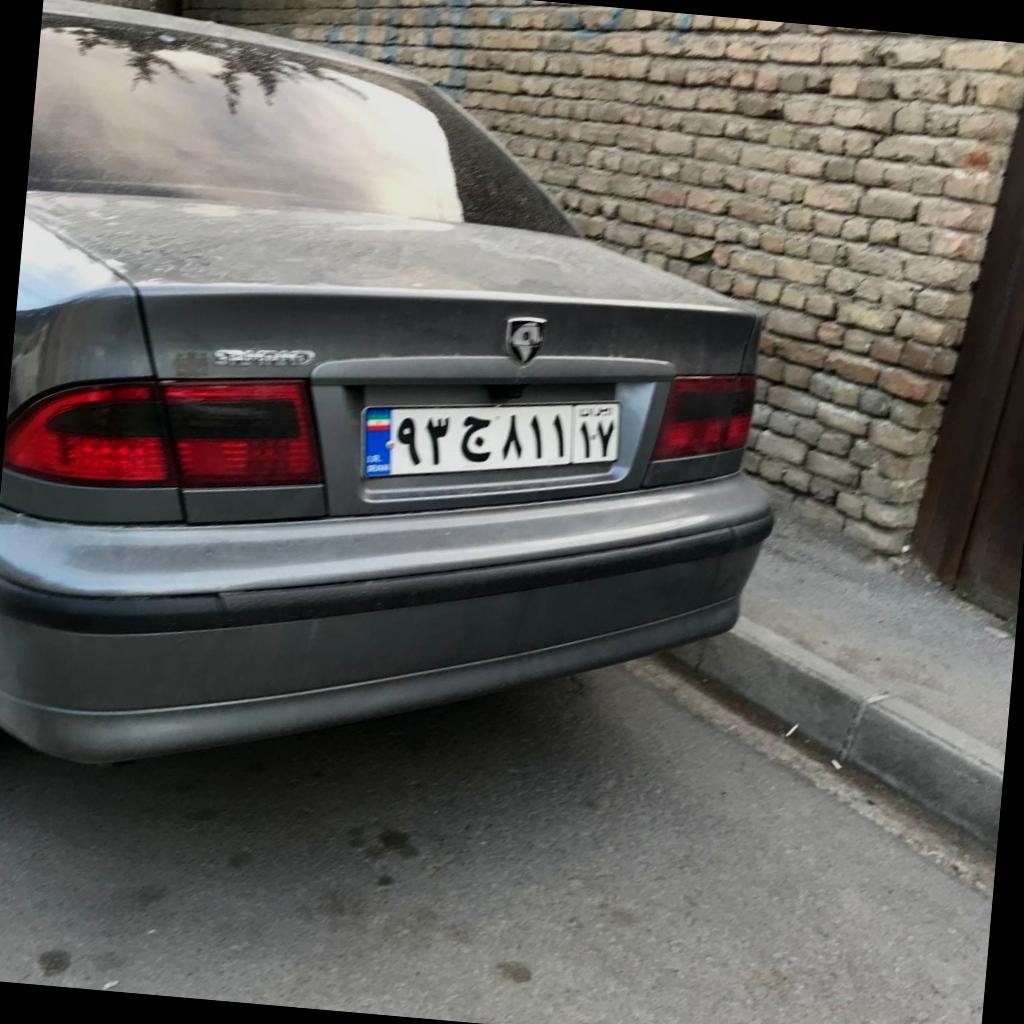Plates: (363, 402, 620, 477)
